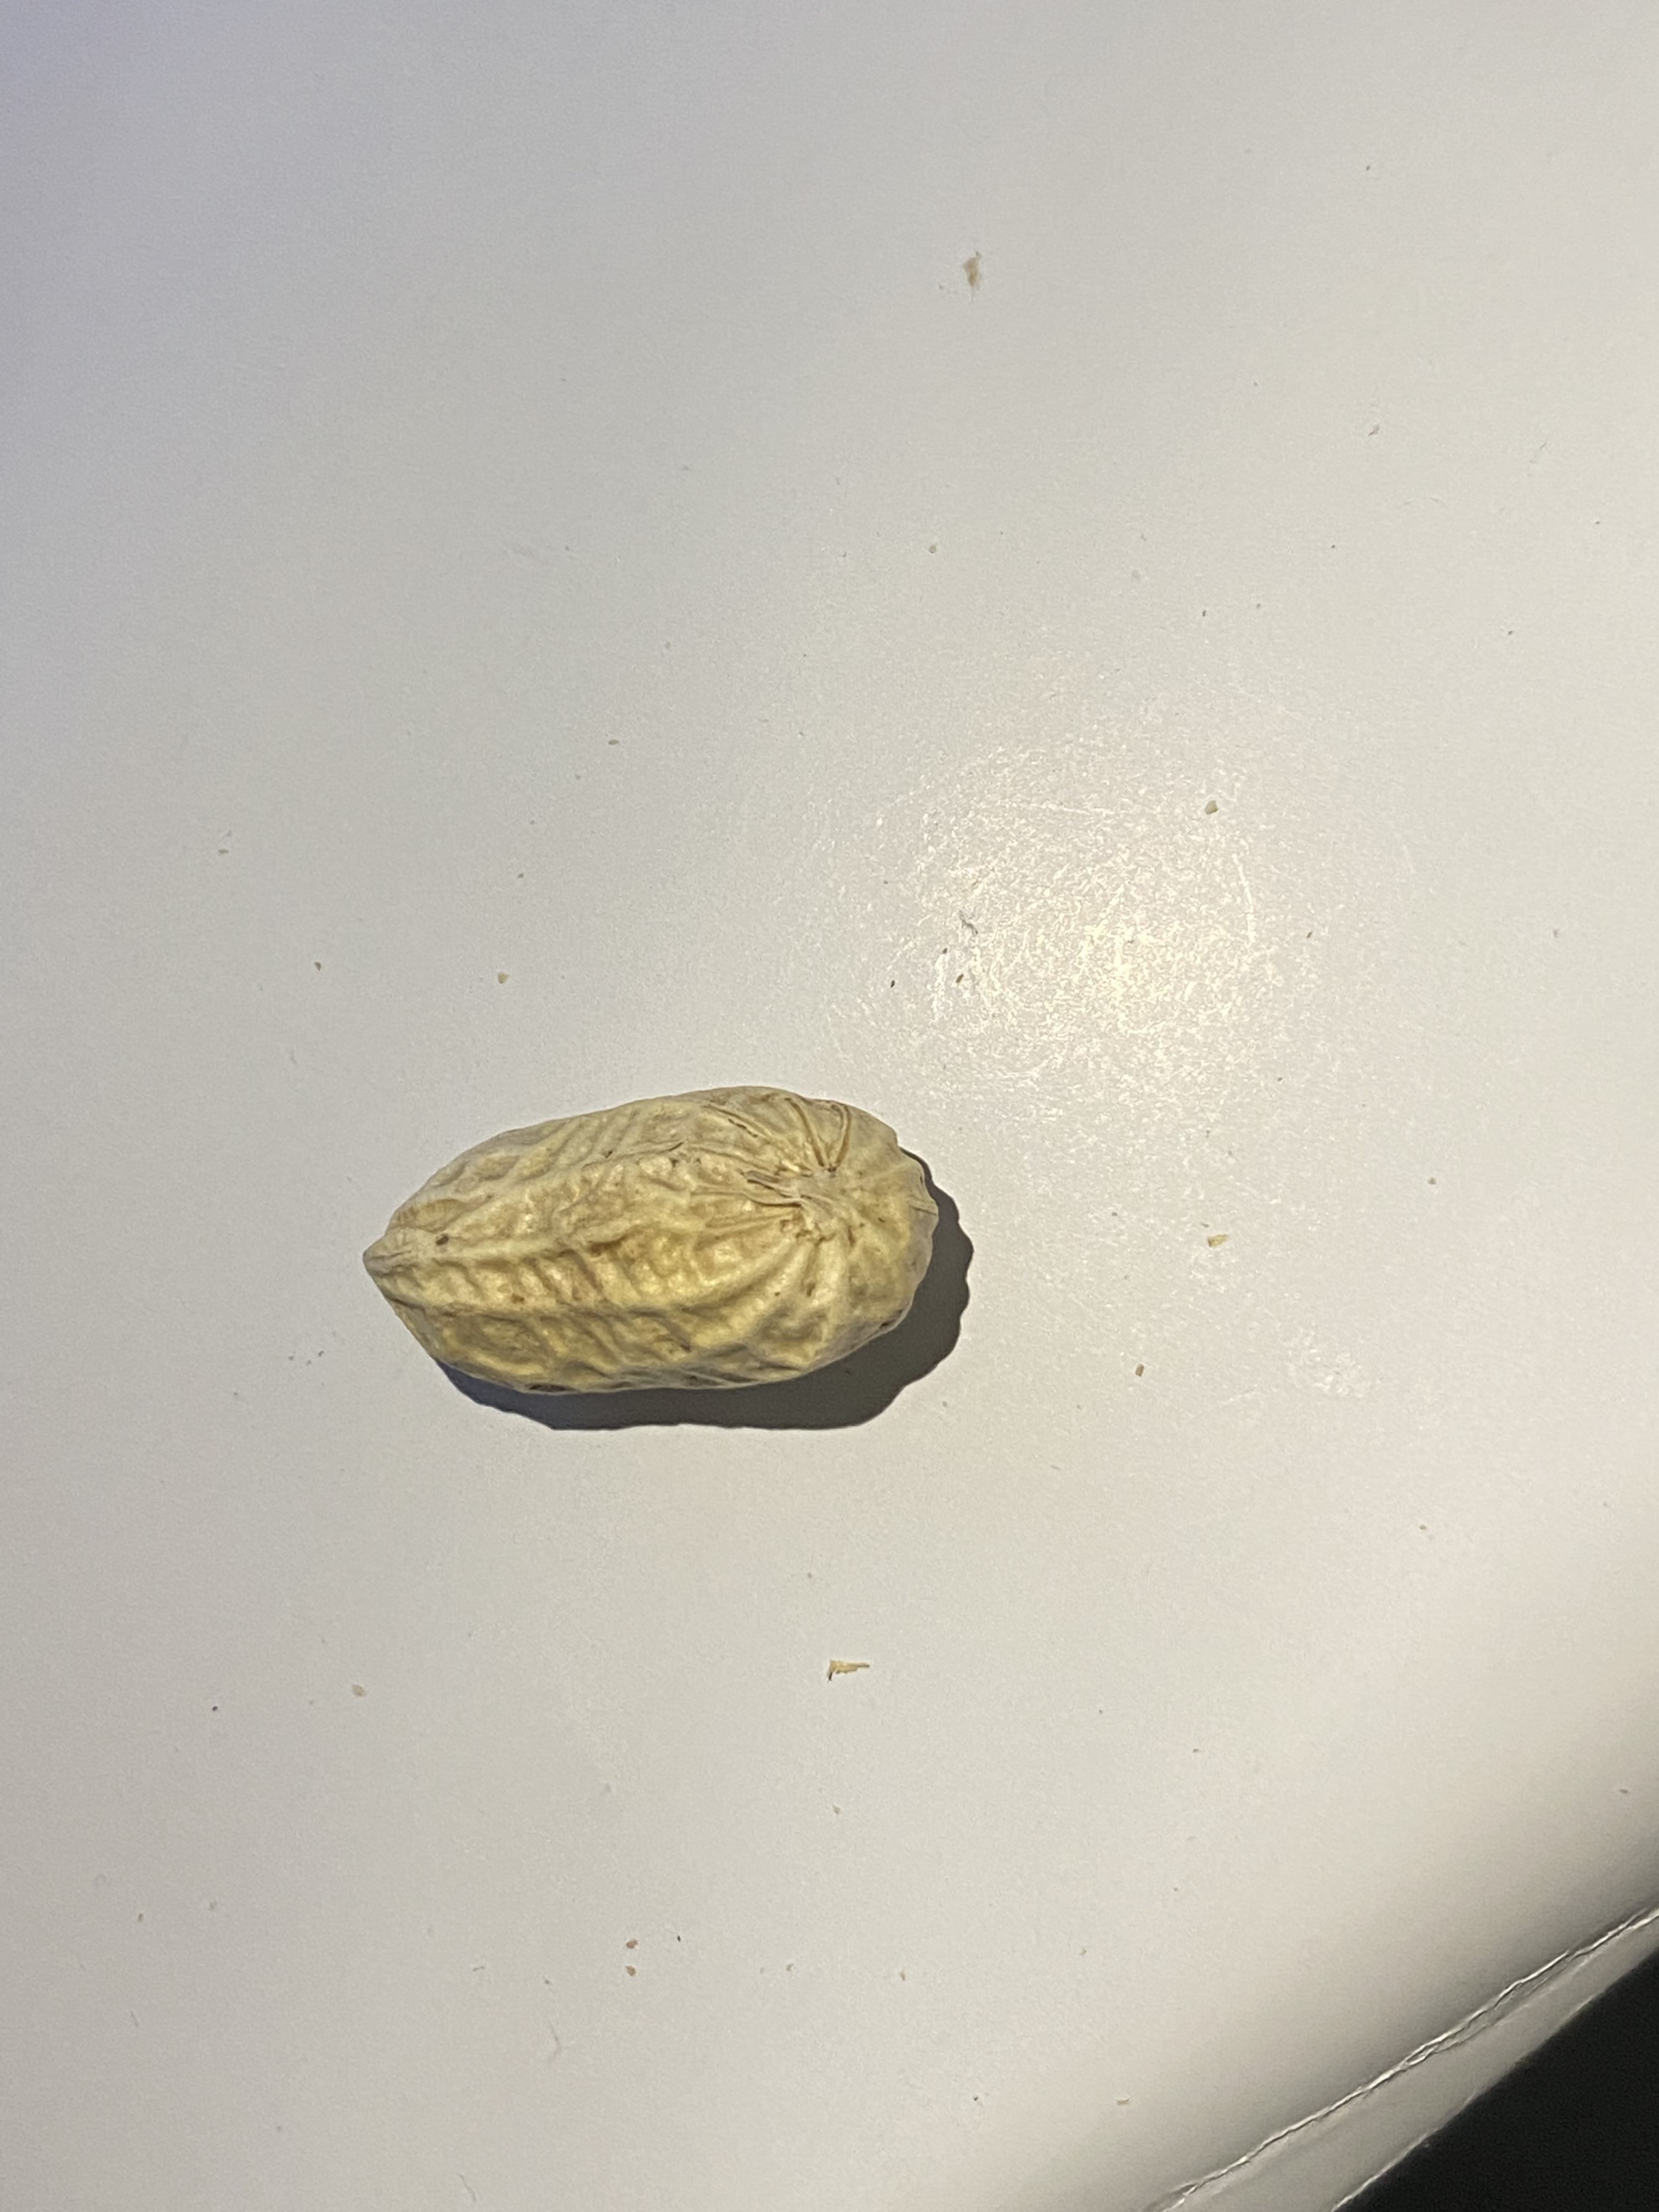kacang1: (321, 1049, 988, 1414)
